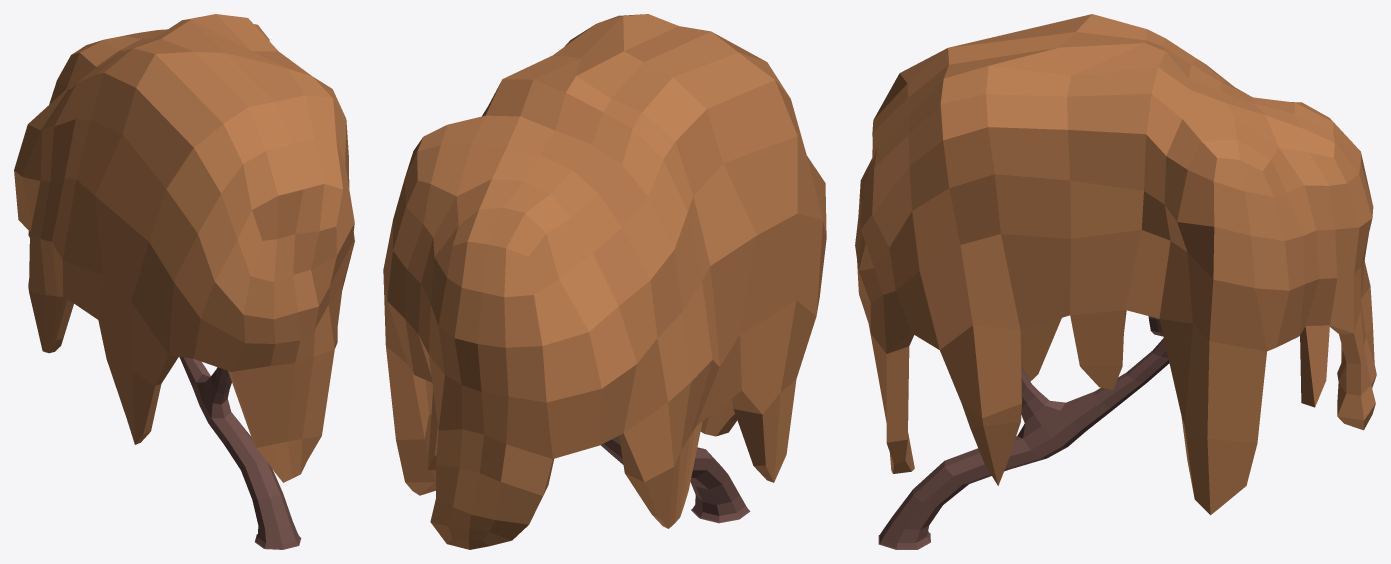
Rendered from Willow_Autumn_2.glb.
3 views of the same model, side by side, from view 1: azimuth 30°, elevation 25°; view 2: azimuth 150°, elevation 25°; view 3: azimuth 270°, elevation 25° (orthographic). The views are drawn at different scales.
Parts seen in each view (by area): view 1: Willow_Autumn_2; view 2: Willow_Autumn_2; view 3: Willow_Autumn_2.
Part boxes in pixels (bbox=[...]): Willow_Autumn_2: bbox=[14, 14, 354, 549]; Willow_Autumn_2: bbox=[383, 14, 826, 549]; Willow_Autumn_2: bbox=[855, 14, 1376, 549].
Size of the model in its own units: 1.95 by 3.32 by 3.11.
